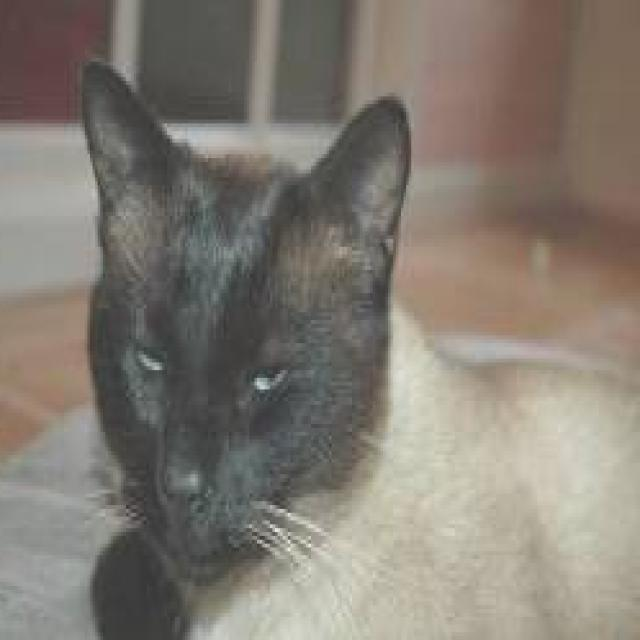Kucing: (2, 63, 478, 640)
